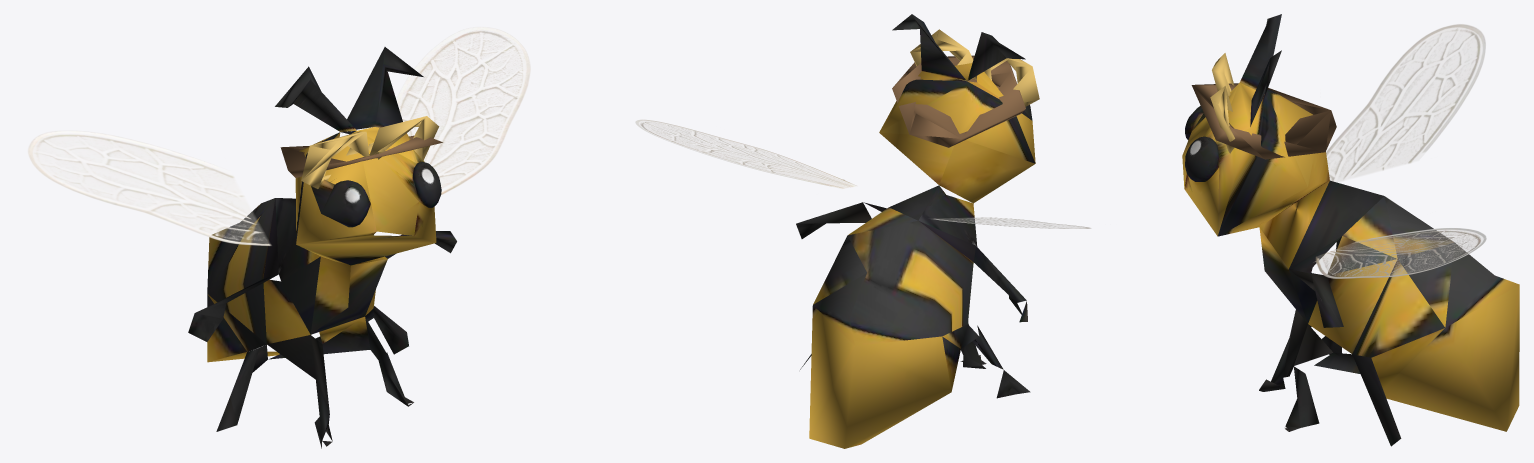
The model's file is toad-pose-bizzy-s10.glb.
3 views of the same model, side by side, from view 1: azimuth 30°, elevation 25°; view 2: azimuth 150°, elevation 25°; view 3: azimuth 270°, elevation 25° (orthographic). The views are drawn at different scales.
Parts seen in each view (by area): view 1: p-bizzy; view 2: p-bizzy; view 3: p-bizzy.
Part boxes in pixels (bbox=[...]): p-bizzy: bbox=[28, 27, 530, 448]; p-bizzy: bbox=[635, 14, 1091, 448]; p-bizzy: bbox=[1182, 14, 1519, 446].
Bounding box in the file's own units: 0.039 × 0.0276 × 0.0221.
5 materials, 3 textured.
